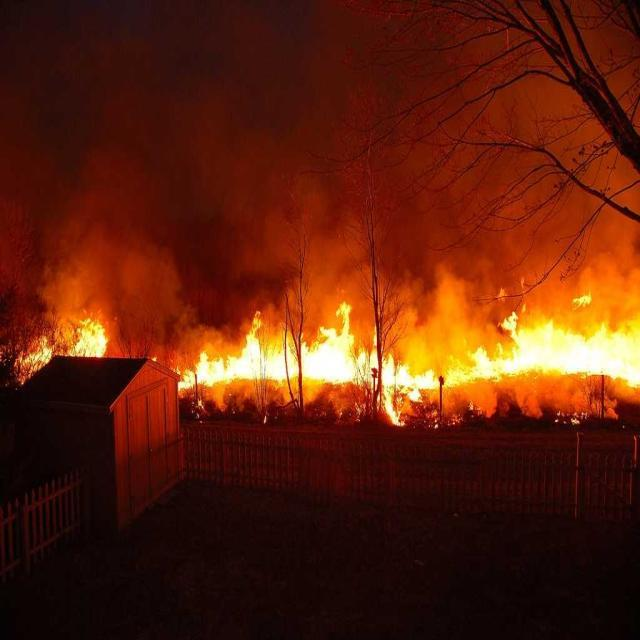Fire: (191, 304, 436, 393), (463, 298, 640, 387), (32, 307, 106, 356)
